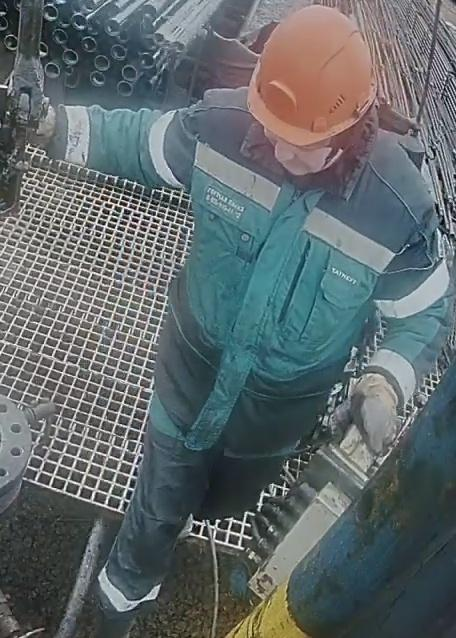gloves: (325, 363, 412, 458), (5, 91, 85, 159)
helmet: (246, 3, 378, 146)
vest: (148, 90, 393, 456)
